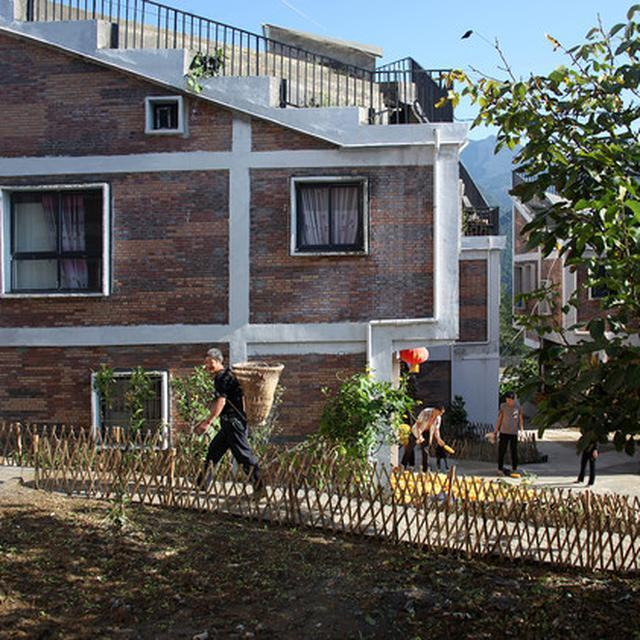building: (0, 0, 504, 471)
